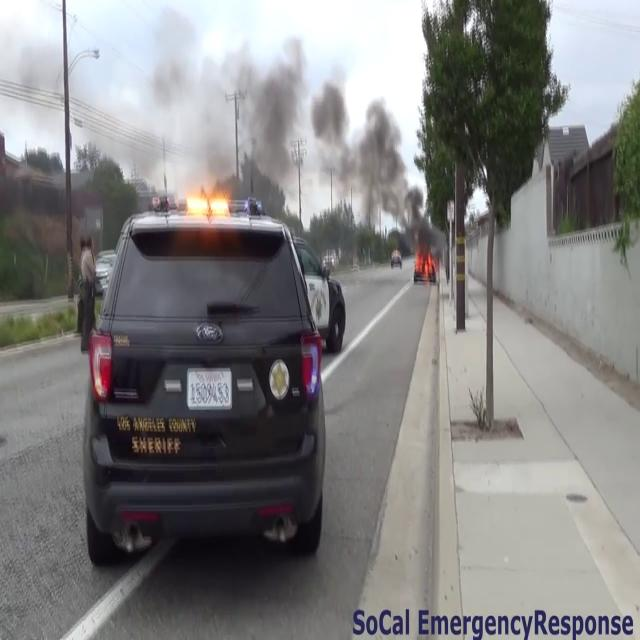Fire: (176, 182, 236, 227), (414, 242, 437, 285)
Smoke: (129, 3, 411, 196)
